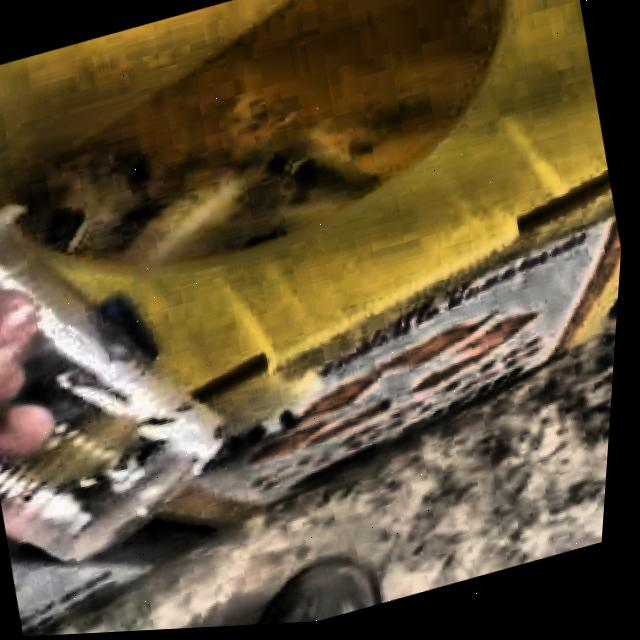plastic: (0, 208, 230, 563)
